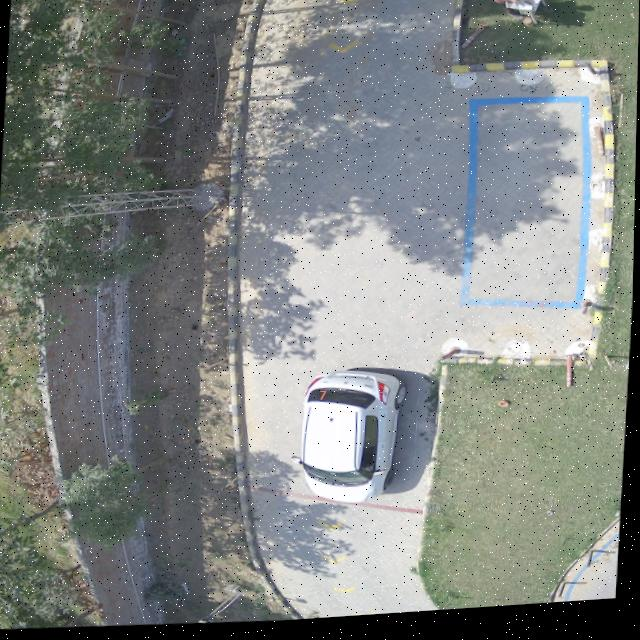car: (298, 372, 408, 507)
